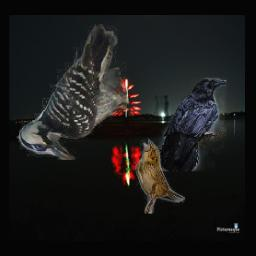Crow: (157, 78, 227, 171)
Sparrow: (135, 139, 185, 215)
Woodpecker: (17, 24, 129, 160)
